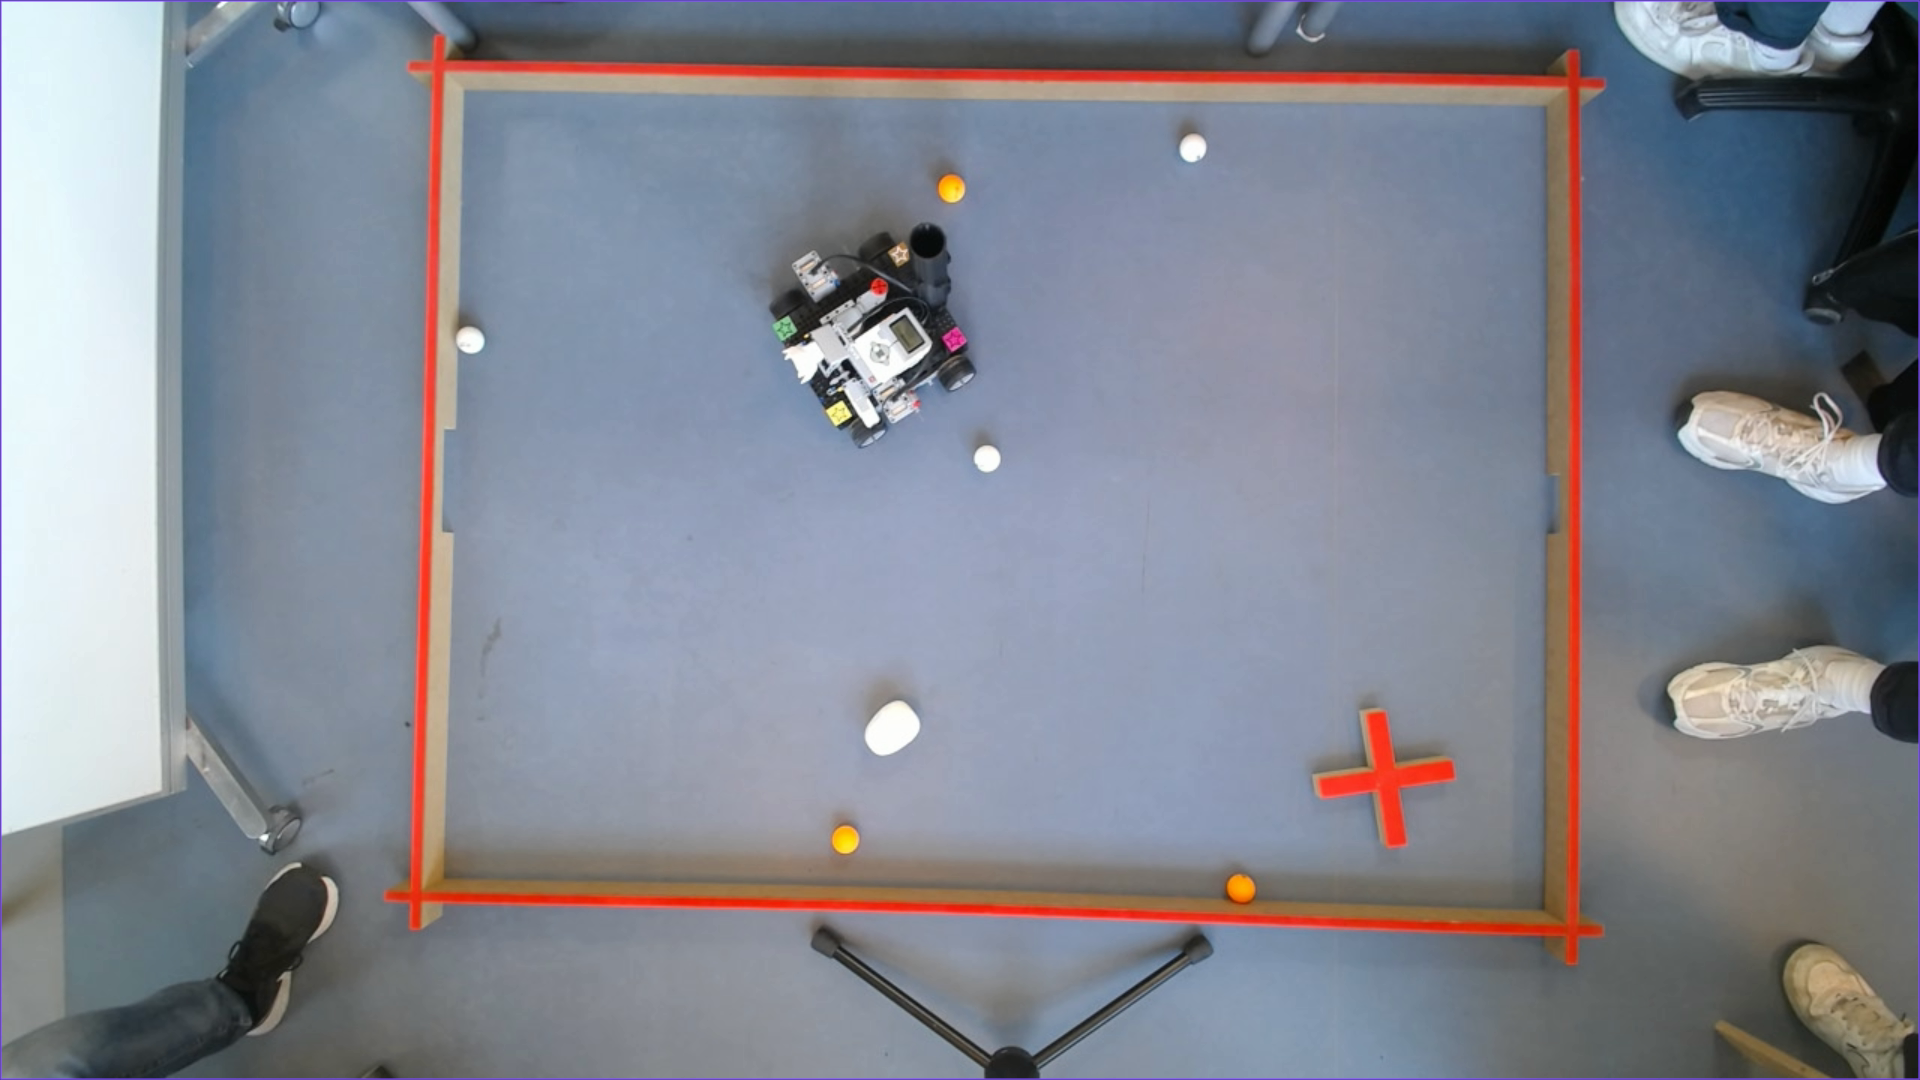ball_orange: (938, 175, 967, 203), (1228, 873, 1255, 902), (832, 825, 860, 853)
ball_white: (1179, 132, 1207, 164), (975, 444, 1002, 473), (456, 328, 484, 355)
corner_brown: (887, 243, 911, 266)
corner_green: (771, 316, 796, 340)
corner_pink: (942, 328, 968, 351)
corner_yellow: (825, 400, 852, 426)
cross: (1312, 708, 1455, 847)
egg: (864, 700, 920, 757)
playfield: (404, 59, 1582, 945)
